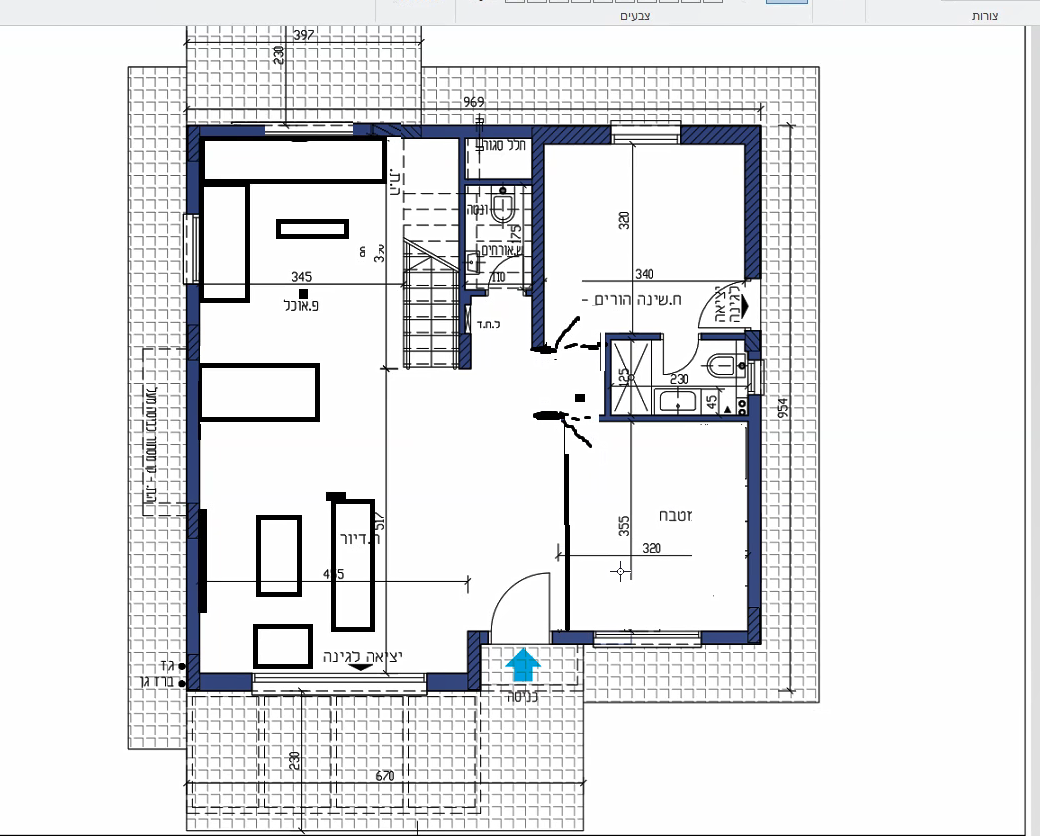door: (486, 570, 556, 628), (658, 339, 703, 380)
window: (251, 671, 427, 697), (593, 629, 700, 647), (611, 124, 679, 144), (265, 125, 354, 140), (182, 214, 201, 284), (746, 360, 765, 395)
